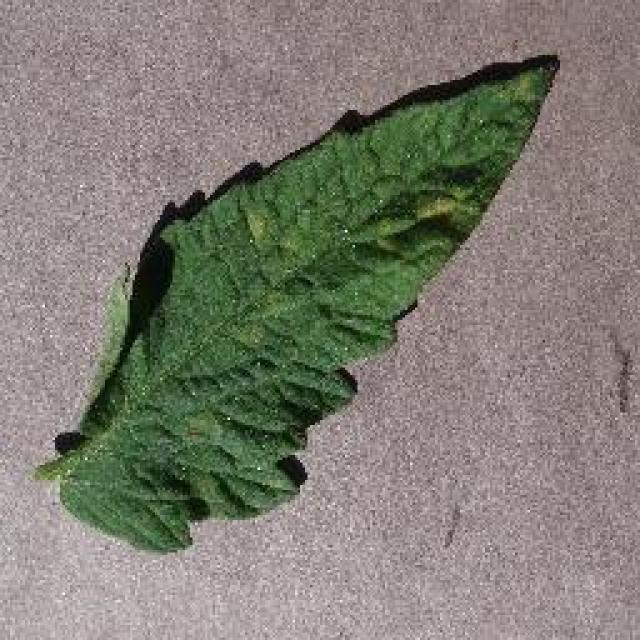Tomato___Leaf_Mold: (35, 55, 558, 550)
